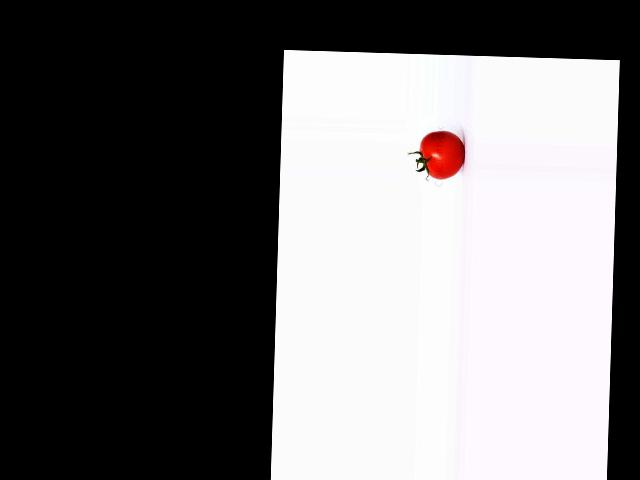tomato: (419, 130, 464, 179)
